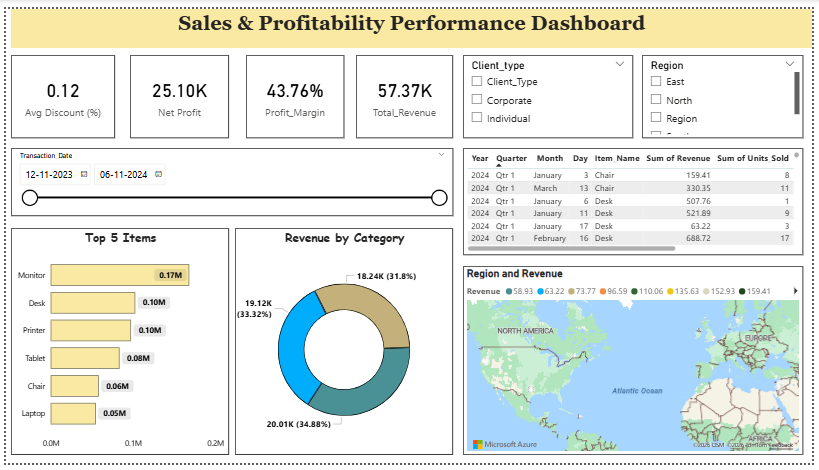

This screenshot's page, from the dashboard's own definition file:
{"tool":"powerbi","page":{"name":"Dashboard","canvas":[1280,720],"ordinal":0},"visuals":[{"type":"card","fields":{"Values":["KPIs.Avg_Discount_Rate"]},"box":[7.9,73,165.1,131.7],"z":0},{"type":"card","fields":{"Values":["KPIs.Total_Net_Profit"]},"box":[196.8,73,157.1,131.7],"z":1000},{"type":"card","fields":{"Values":["KPIs.Profit_Margin","select"]},"box":[381,73,155.6,131.7],"z":2000},{"type":"card","fields":{"Values":["KPIs.Total_Revenue"]},"box":[555.6,73,154,131.7],"z":3000},{"type":"slicer","fields":{"Values":["transactions.Transaction_Date"]},"box":[7.9,220.6,701.6,107.9],"z":4000},{"type":"slicer","fields":{"Values":["clients.Column3"]},"box":[725.4,73,269.8,131.7],"z":5000},{"type":"slicer","fields":{"Values":["clients.Column4"]},"box":[1009.5,73,255.6,131.7],"z":6000},{"type":"clusteredBarChart","title":"Top 5 Items","fields":{"Category":["transactions.Item_Name"],"Y":["Sum(transactions.Total_Sales)"]},"box":[7.9,347.6,346,360.3],"z":7000},{"type":"donutChart","title":"Revenue by Category","fields":{"Category":["transactions.Item_Category"],"Y":["Sum(transactions.Revenue)"]},"box":[363.5,347.6,346,360.3],"z":8000},{"type":"tableEx","fields":{"Values":["transactions.Transaction_Date.Variation.Date Hierarchy.Year","transactions.Transaction_Date.Variation.Date Hierarchy.Quarter","transactions.Transaction_Date.Variation.Date Hierarchy.Month","transactions.Transaction_Date.Variation.Date Hierarchy.Day","transactions.Item_Name","Sum(transactions.Revenue)","Sum(transactions.Units_Sold)","Sum(transactions.Discount_Amount)","Sum(transactions.Net_Profit)"]},"box":[725.4,220.6,539.7,169.8],"z":9000},{"type":"azureMap","fields":{"Category":["clients.Region"],"Series":["transactions.Revenue"]},"box":[725.4,407.9,539.7,300],"z":10000},{"type":"shape","box":[7.9,0,1257.1,61.9],"z":11000},{"type":"textbox","box":[7.3,0,1272.5,61.7],"z":12000}]}

Visuals, with their boxes in screenshot pixels (x1, y1, x2, y2), scaled from the page's 1280x720 canvas onto the 819x470 screenshot:
card - KPIs.Avg_Discount_Rate: {"x1": 5, "y1": 48, "x2": 111, "y2": 134}
card - KPIs.Total_Net_Profit: {"x1": 126, "y1": 48, "x2": 226, "y2": 134}
card - KPIs.Profit_Margin x select: {"x1": 244, "y1": 48, "x2": 343, "y2": 134}
card - KPIs.Total_Revenue: {"x1": 355, "y1": 48, "x2": 454, "y2": 134}
slicer - transactions.Transaction_Date: {"x1": 5, "y1": 144, "x2": 454, "y2": 214}
slicer - clients.Column3: {"x1": 464, "y1": 48, "x2": 637, "y2": 134}
slicer - clients.Column4: {"x1": 646, "y1": 48, "x2": 809, "y2": 134}
"Top 5 Items" clusteredBarChart: {"x1": 5, "y1": 227, "x2": 226, "y2": 462}
"Revenue by Category" donutChart: {"x1": 233, "y1": 227, "x2": 454, "y2": 462}
tableEx - transactions.Transaction_Date.Variation.Date Hierarchy.Year x transactions.Transaction_Date.Variation.Date Hierarchy.Quarter: {"x1": 464, "y1": 144, "x2": 809, "y2": 255}
azureMap - clients.Region x transactions.Revenue: {"x1": 464, "y1": 266, "x2": 809, "y2": 462}
shape: {"x1": 5, "y1": 0, "x2": 809, "y2": 40}
textbox: {"x1": 5, "y1": 0, "x2": 818, "y2": 40}
